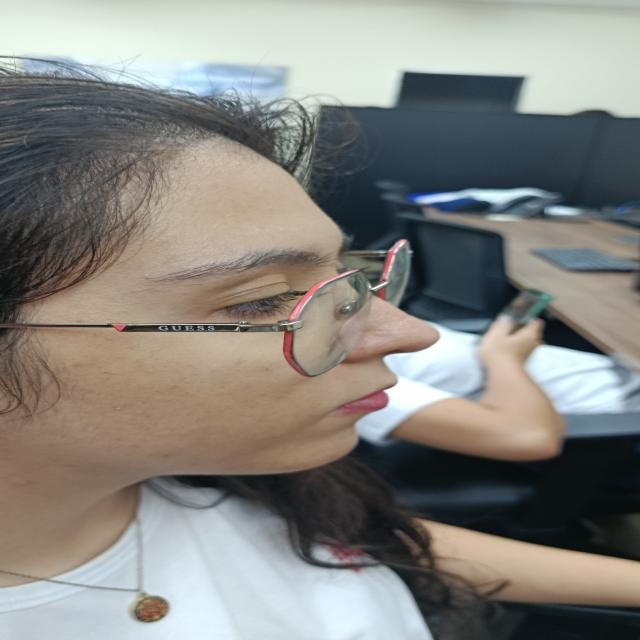sem_oculos: (0, 240, 411, 377)
